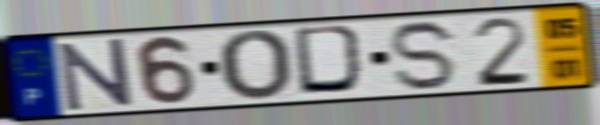2: (470, 15, 532, 88)
6: (133, 33, 199, 108)
D: (291, 23, 372, 98)
N: (55, 36, 137, 114)
O: (215, 28, 294, 104)
S: (387, 18, 461, 94)
